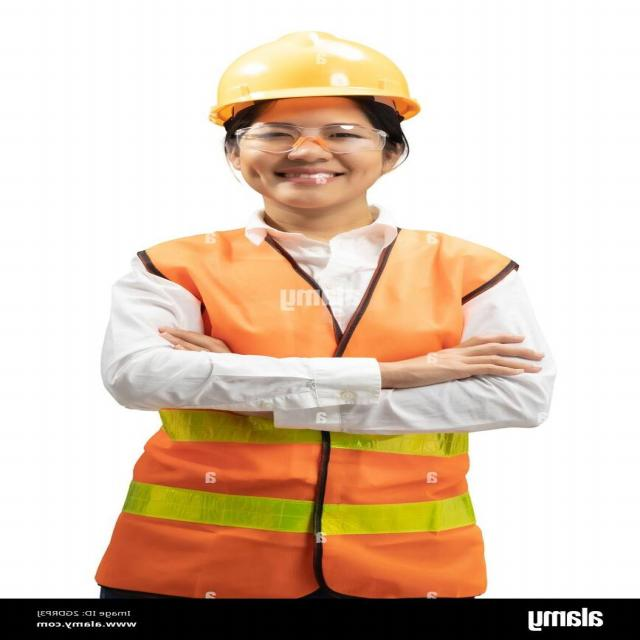Reflective-Jacket: (91, 222, 508, 604)
Safety-Helmet: (204, 27, 422, 123)
